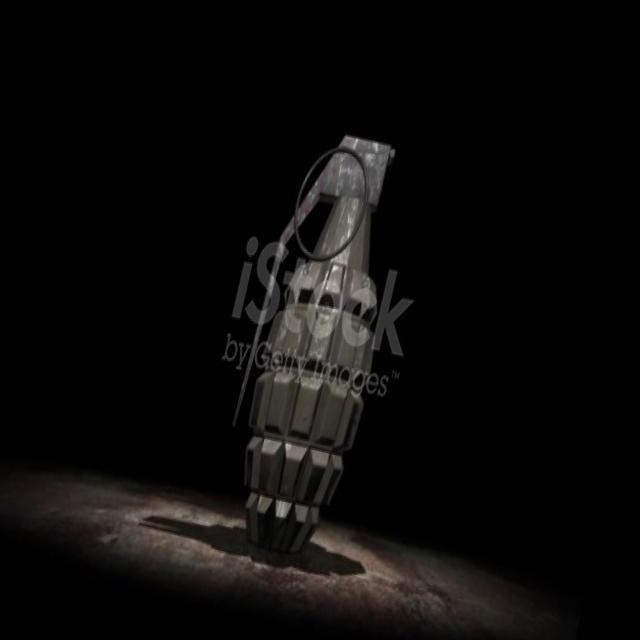grenade: (200, 121, 428, 575)
